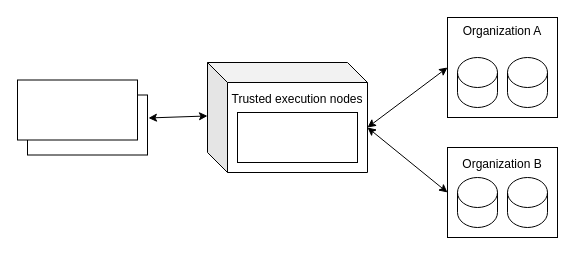
This 575x255 diagram has some shape labels left out. The shapes that lost their labels are listed below. From the top down, each one's box as (x1, y1, x2, y2) in pixels, then its label:
(16, 79, 138, 140): Clients
(236, 112, 358, 162): AIRport
